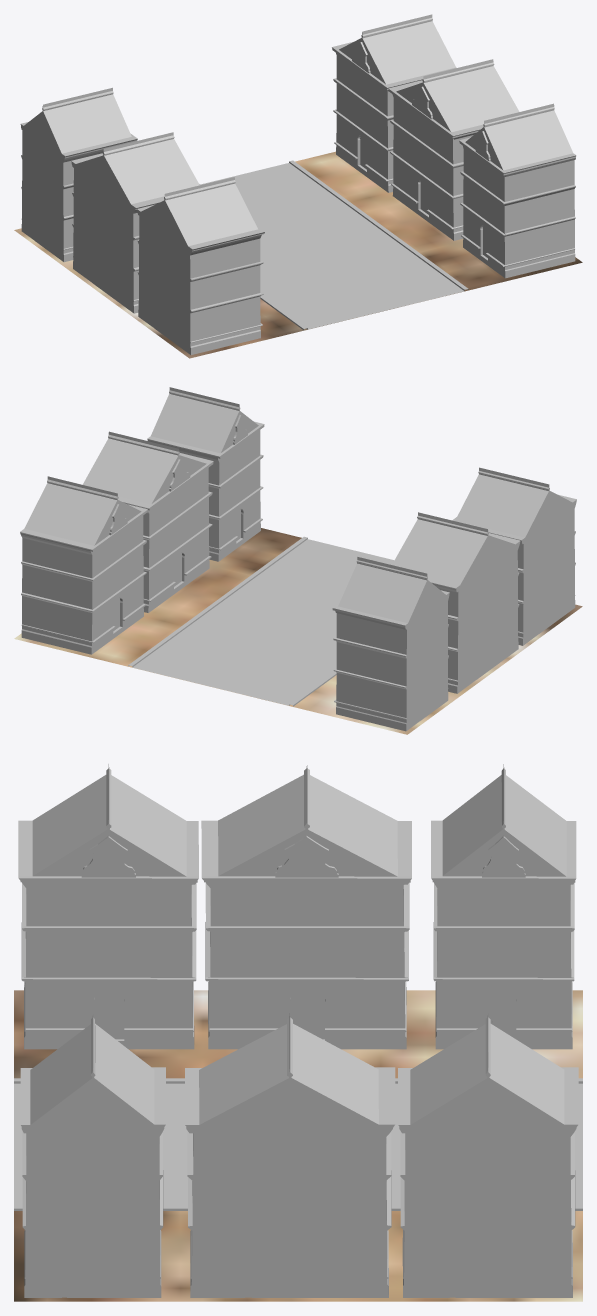
Rendered from stage.fbx.
The picture shows the model from 3 angles, top to bottom: view 1: azimuth 30°, elevation 25°; view 2: azimuth 150°, elevation 25°; view 3: azimuth 270°, elevation 25°; orthographic projection. The views are drawn at different scales.
Visible parts, largest first — view 1: Floor.001, bill_4, bill_3, bill_2, bill_5, bill_1, bill_6, Floor, Floor.002; view 2: Floor.001, bill_1, bill_6, bill_5, bill_2, bill_4, bill_3, Floor, Floor.002; view 3: bill_2, bill_5, bill_1, bill_4, bill_3, bill_6, Floor, Floor.001.
Boxes of the visible parts, x1,y1,x2,y2 form: Floor.001: (200, 163, 463, 329); bill_4: (137, 177, 264, 354); bill_3: (459, 103, 576, 278); bill_2: (388, 59, 519, 240); bill_5: (71, 132, 200, 313); bill_1: (332, 14, 456, 192); bill_6: (20, 87, 137, 262); Floor: (14, 151, 582, 358); Floor.002: (260, 160, 468, 330); Floor.001: (132, 539, 394, 705); bill_1: (20, 476, 147, 654); bill_6: (332, 557, 449, 731); bill_5: (391, 512, 520, 693); bill_2: (82, 431, 213, 612); bill_4: (452, 467, 576, 645); bill_3: (147, 387, 264, 561); Floor: (14, 528, 582, 734); Floor.002: (128, 536, 336, 706); bill_2: (185, 1013, 395, 1297); bill_5: (201, 765, 411, 1049); bill_1: (398, 1013, 578, 1297); bill_4: (18, 764, 198, 1049); bill_3: (20, 1014, 165, 1297); bill_6: (431, 764, 576, 1049); Floor: (14, 990, 582, 1301); Floor.001: (14, 1083, 582, 1205).
Size of the model in its own units: 2.59 by 0.9003 by 2.
